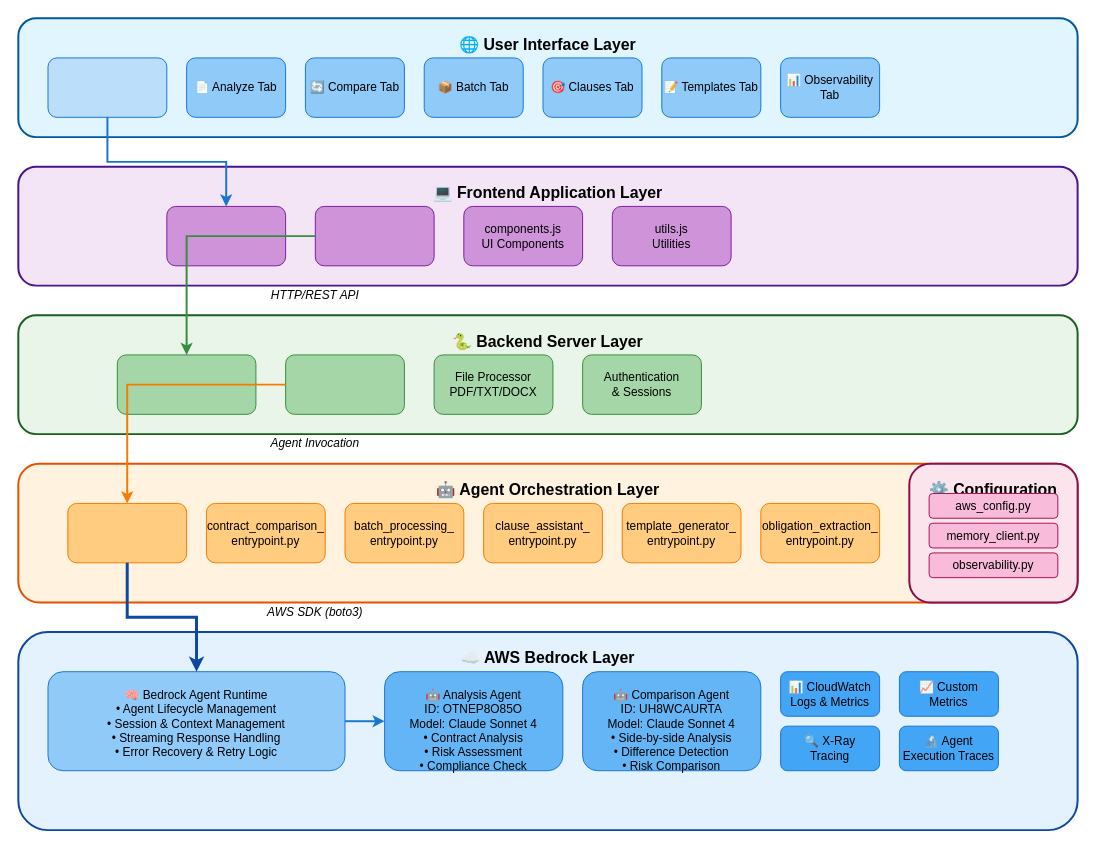
This 1095x847 diagram has some shape labels left out. The centre of each missing label's shape, as x and y in pixels:
api-client.js HTTP Client: [374,235]
contract_analysis_ entrypoint.py: [127,532]
frontend_server.py HTTP Server Port 8094: [186,384]
Request Router & Validation: [344,384]
v3-app.js Main Controller: [226,235]
🌐 Web Browser: [107,87]
